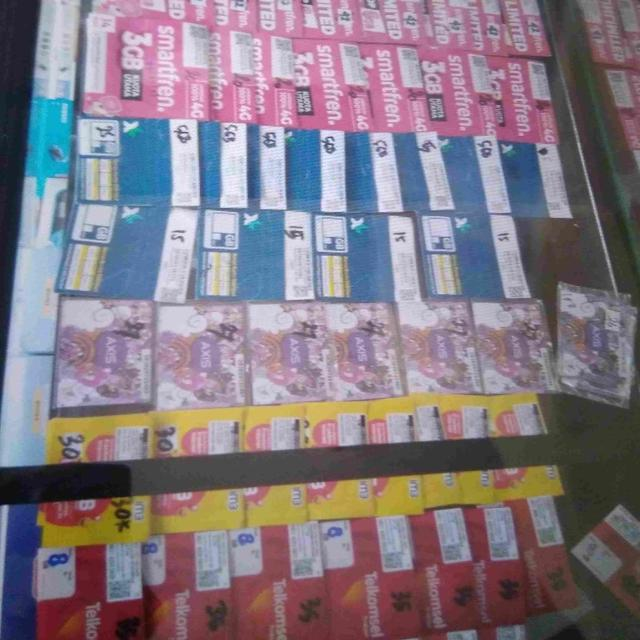Axis: (78, 118, 581, 296), (50, 292, 549, 401), (550, 284, 634, 410)
Telkomsel: (37, 535, 580, 638)
im3: (35, 398, 551, 515)
smartfren: (87, 1, 560, 124)
